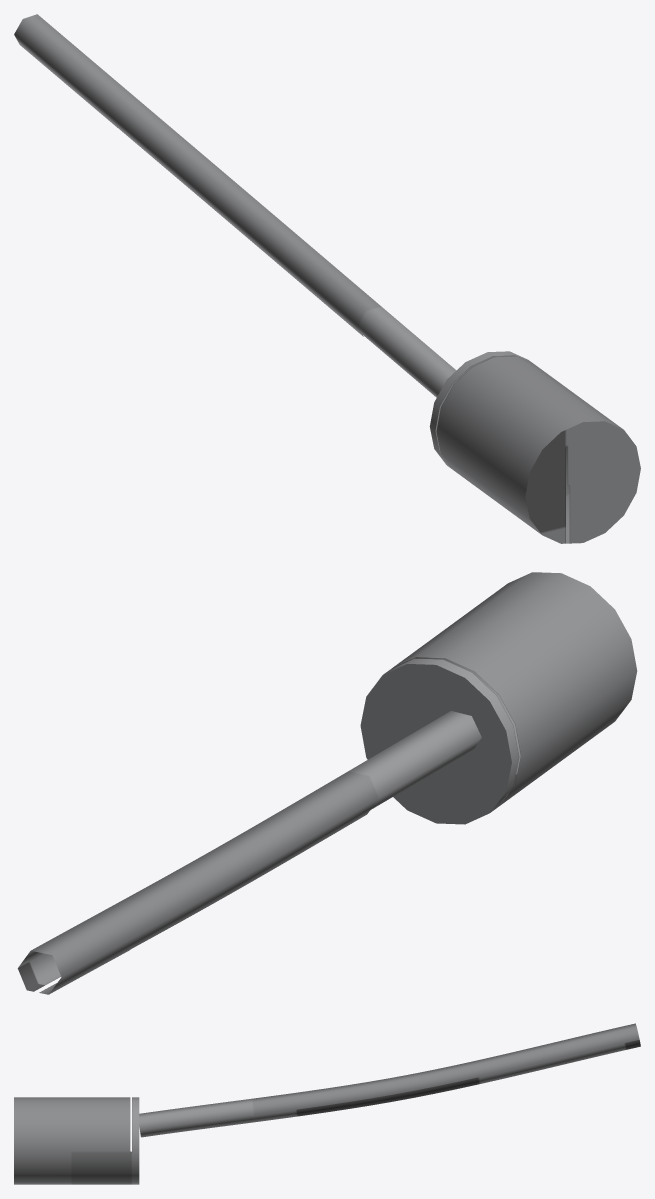
3 views of the same model, one above another, from view 1: azimuth 30°, elevation 25°; view 2: azimuth 150°, elevation 25°; view 3: azimuth 270°, elevation 25° (orthographic). The views are drawn at different scales.
Bounding box in the file's own units: 0.2308 × 0.2882 × 1.26.
